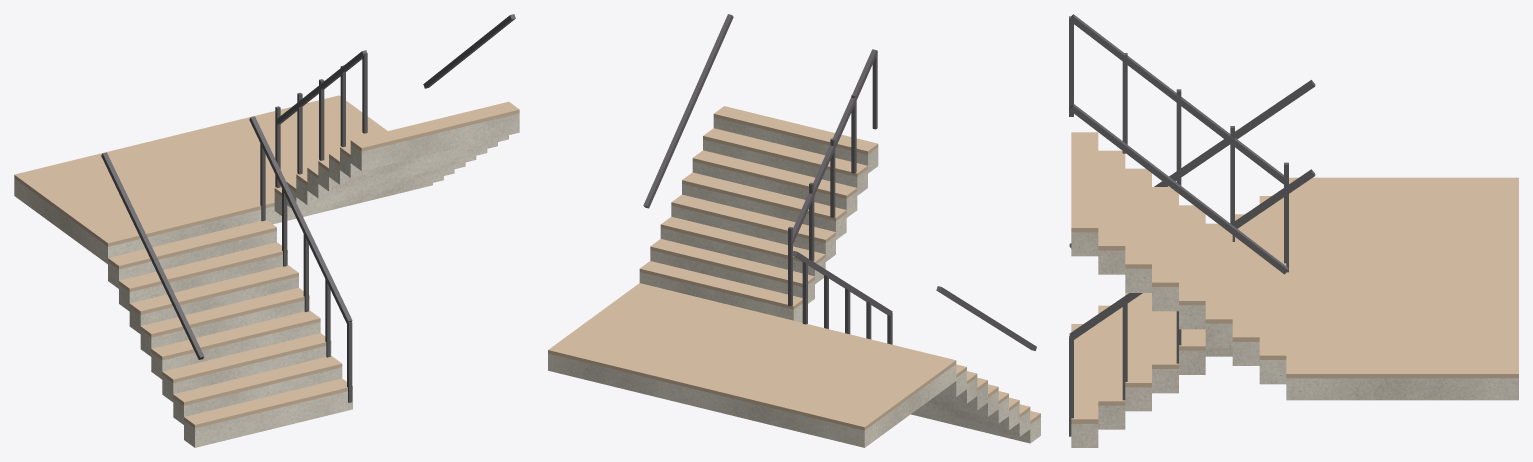
Rendered from stairs_u_3m_192_192.glb.
The picture shows the model from 3 angles, left to right: view 1: azimuth 30°, elevation 25°; view 2: azimuth 150°, elevation 25°; view 3: azimuth 270°, elevation 25°; orthographic projection. The views are drawn at different scales.
Visible parts, largest first — view 1: stairs_u_3m_192_192_floor, stairs_u_3m_192_192_plaster, stairs_u_3m_192_192_iron; view 2: stairs_u_3m_192_192_floor, stairs_u_3m_192_192_plaster, stairs_u_3m_192_192_iron; view 3: stairs_u_3m_192_192_floor, stairs_u_3m_192_192_plaster, stairs_u_3m_192_192_iron.
Boxes of the visible parts, bbox=[...] form: stairs_u_3m_192_192_floor: bbox=[14, 95, 519, 428]; stairs_u_3m_192_192_plaster: bbox=[14, 113, 519, 447]; stairs_u_3m_192_192_iron: bbox=[101, 14, 515, 402]; stairs_u_3m_192_192_floor: bbox=[548, 106, 1040, 430]; stairs_u_3m_192_192_plaster: bbox=[548, 117, 1040, 447]; stairs_u_3m_192_192_iron: bbox=[643, 14, 1036, 350]; stairs_u_3m_192_192_floor: bbox=[1071, 132, 1518, 423]; stairs_u_3m_192_192_plaster: bbox=[1071, 232, 1518, 447]; stairs_u_3m_192_192_iron: bbox=[1069, 14, 1315, 436].
Size of the model in its own units: 3.84 by 4.01 by 3.72.
3 materials, 1 textured.
